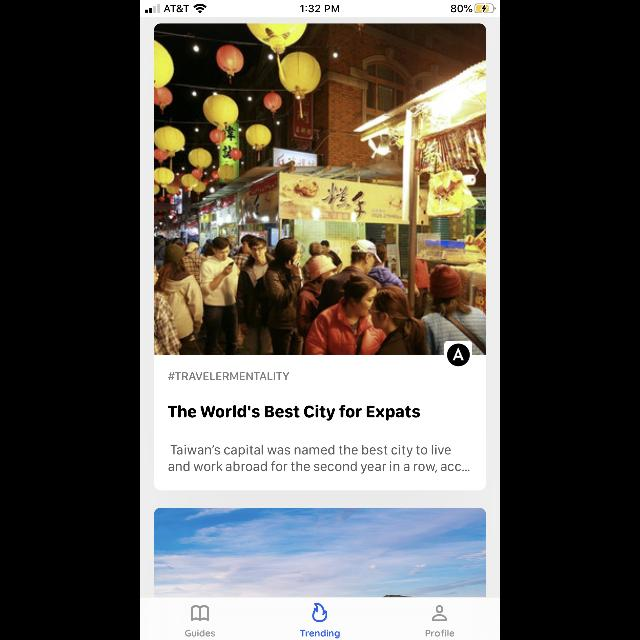icon: (190, 605, 210, 621), (432, 605, 446, 621)
image: (154, 23, 486, 354), (154, 508, 486, 598), (444, 341, 472, 369), (312, 602, 328, 622)
text: (168, 444, 470, 474), (168, 405, 420, 421), (169, 373, 289, 381), (300, 630, 340, 638), (185, 630, 215, 636), (426, 630, 454, 636)
uppertaskbar: (140, 1, 500, 18)
